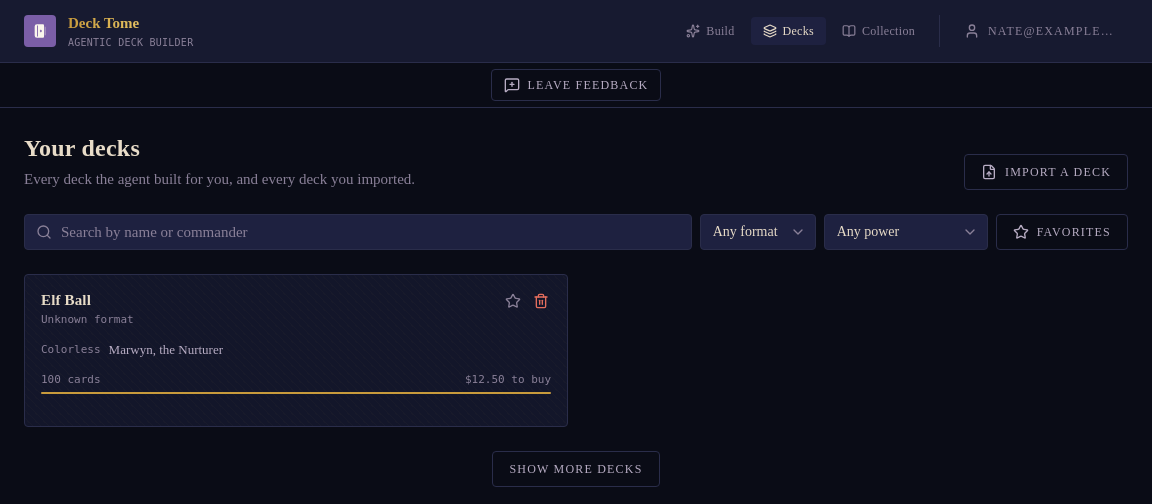
Scenario: DecksPage › reads the next page with the token the server gave
The image size is (1152, 504).
Expected: the link "Elf Ball" is shown, [41,292,91,308]
Click the button "Show more decks": (576, 469) [492,451,660,487]
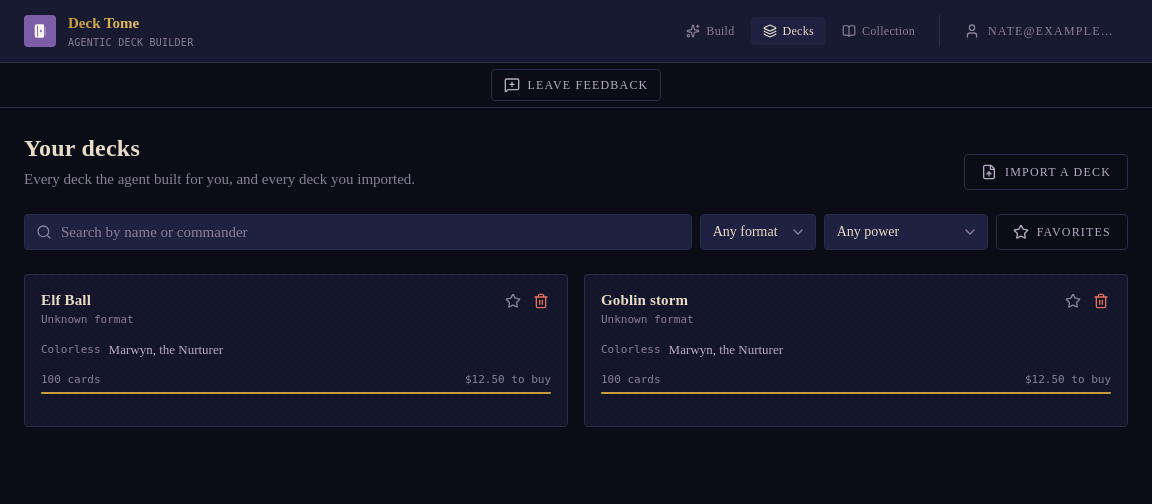
Now the link "Goblin storm" is shown, box [601,292,688,308]
